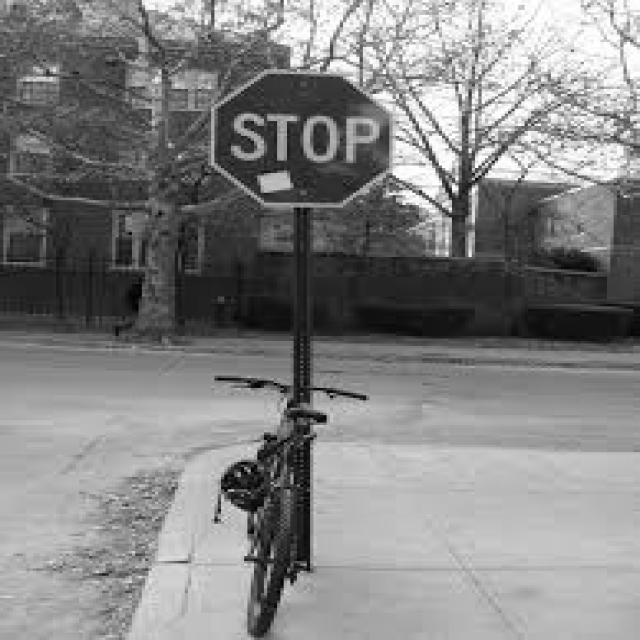stop sign: (213, 69, 391, 206)
